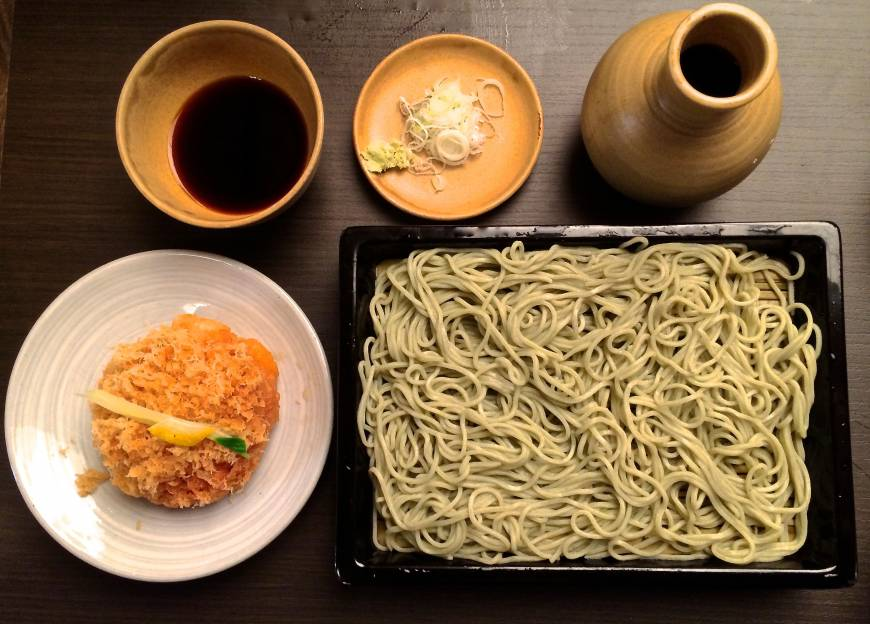Soba: (357, 240, 815, 559)
